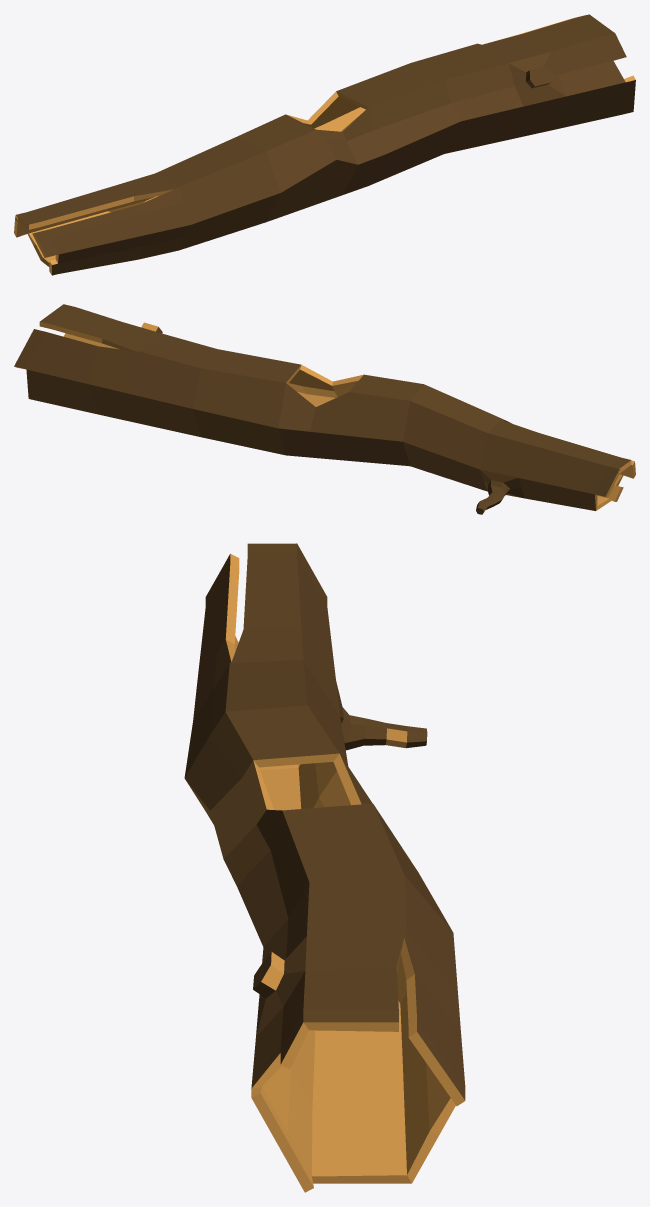
Rendered from tronco.fbx.
The picture shows the model from 3 angles, top to bottom: view 1: azimuth 30°, elevation 25°; view 2: azimuth 150°, elevation 25°; view 3: azimuth 270°, elevation 25°; orthographic projection. The views are drawn at different scales.
Visible parts, largest first — view 1: Tronco; view 2: Tronco; view 3: Tronco.
Boxes of the visible parts, x1=… form: Tronco: x1=14, y1=14, x2=635, y2=275; Tronco: x1=14, y1=304, x2=635, y2=514; Tronco: x1=184, y1=543, x2=465, y2=1192.
Size of the model in its own units: 1118 by 157 by 238.
